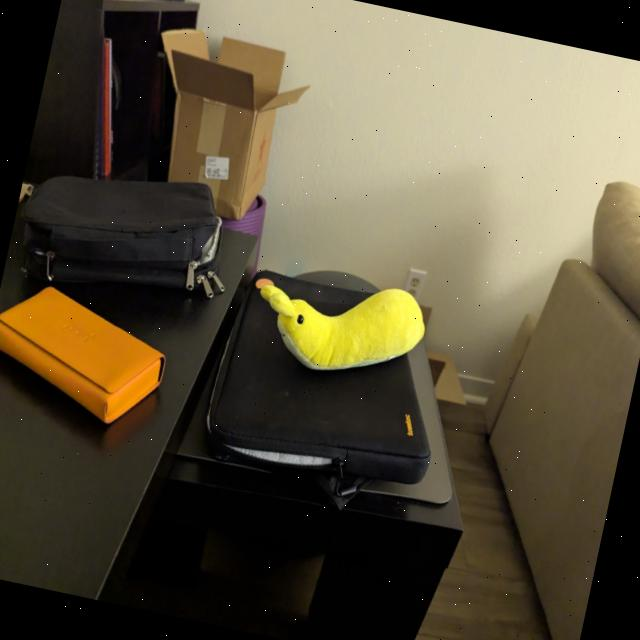banana-slug-toy: (233, 251, 439, 399)
